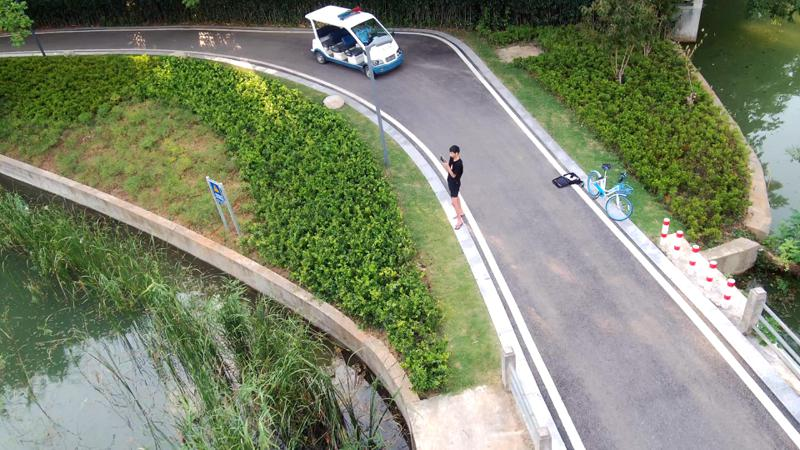passerby: (439, 143, 466, 231)
